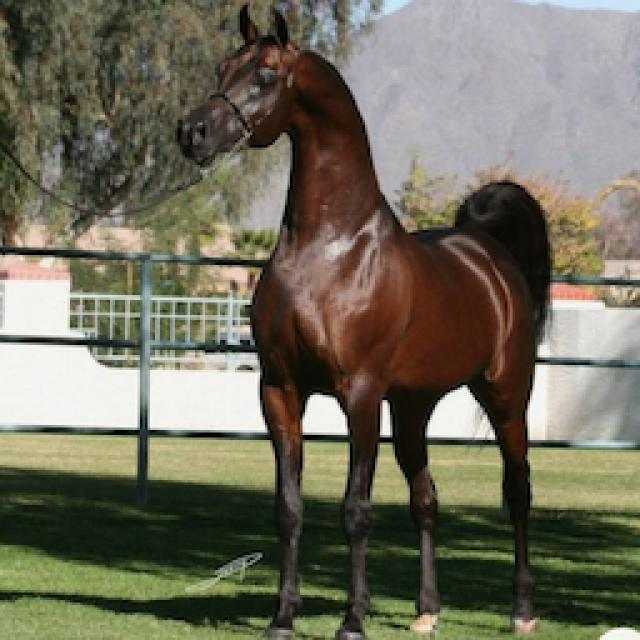Horse: (168, 0, 562, 638)
